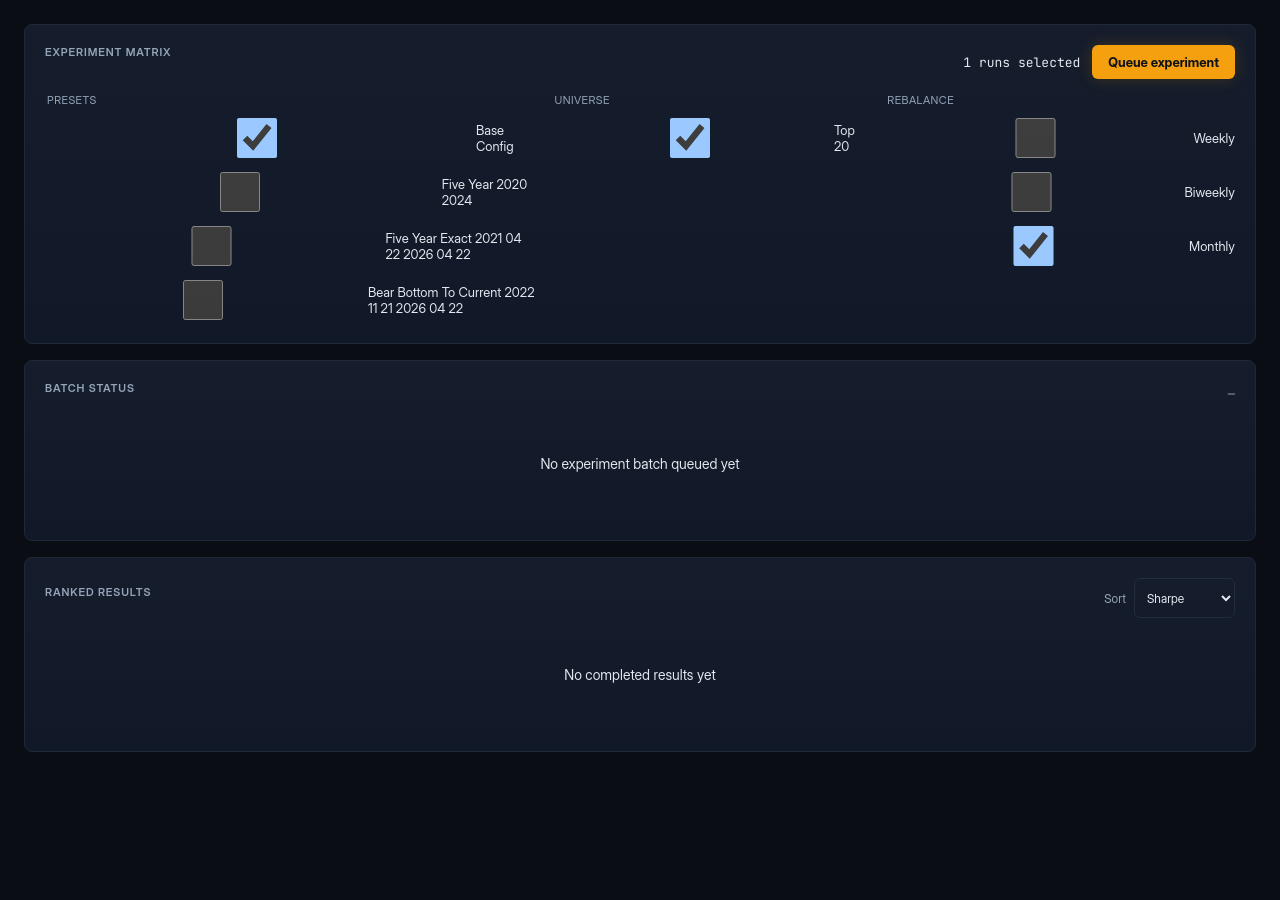
StrategyLabTab › labels return_pct as total return rather than CAGR
Click the button "Queue experiment" at (1164, 62), box [1092,45,1235,79]
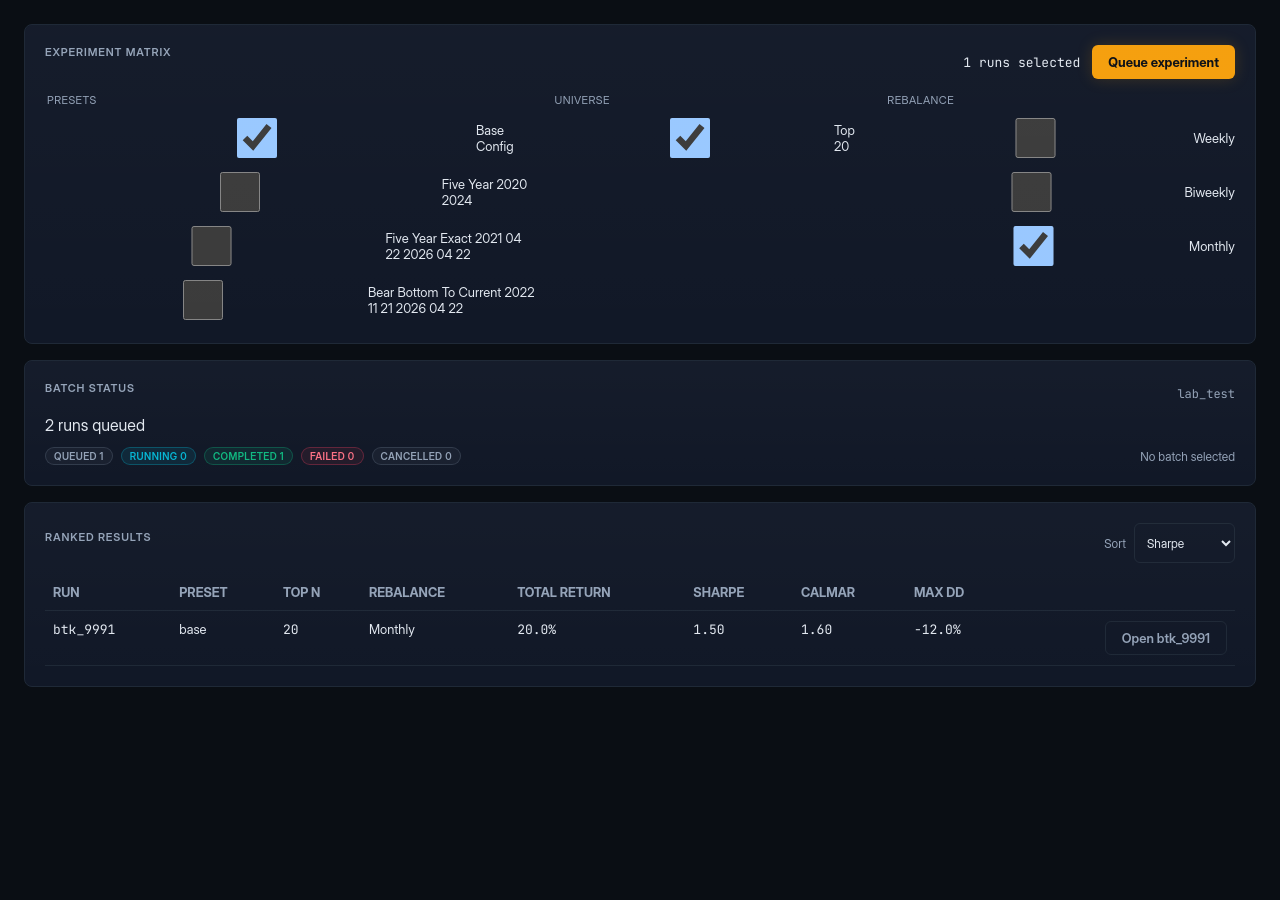
Expected: the column heading "Total Return" is shown, [509,575,685,610]
Expected: the cell "20.0%" is shown, [509,610,685,666]
